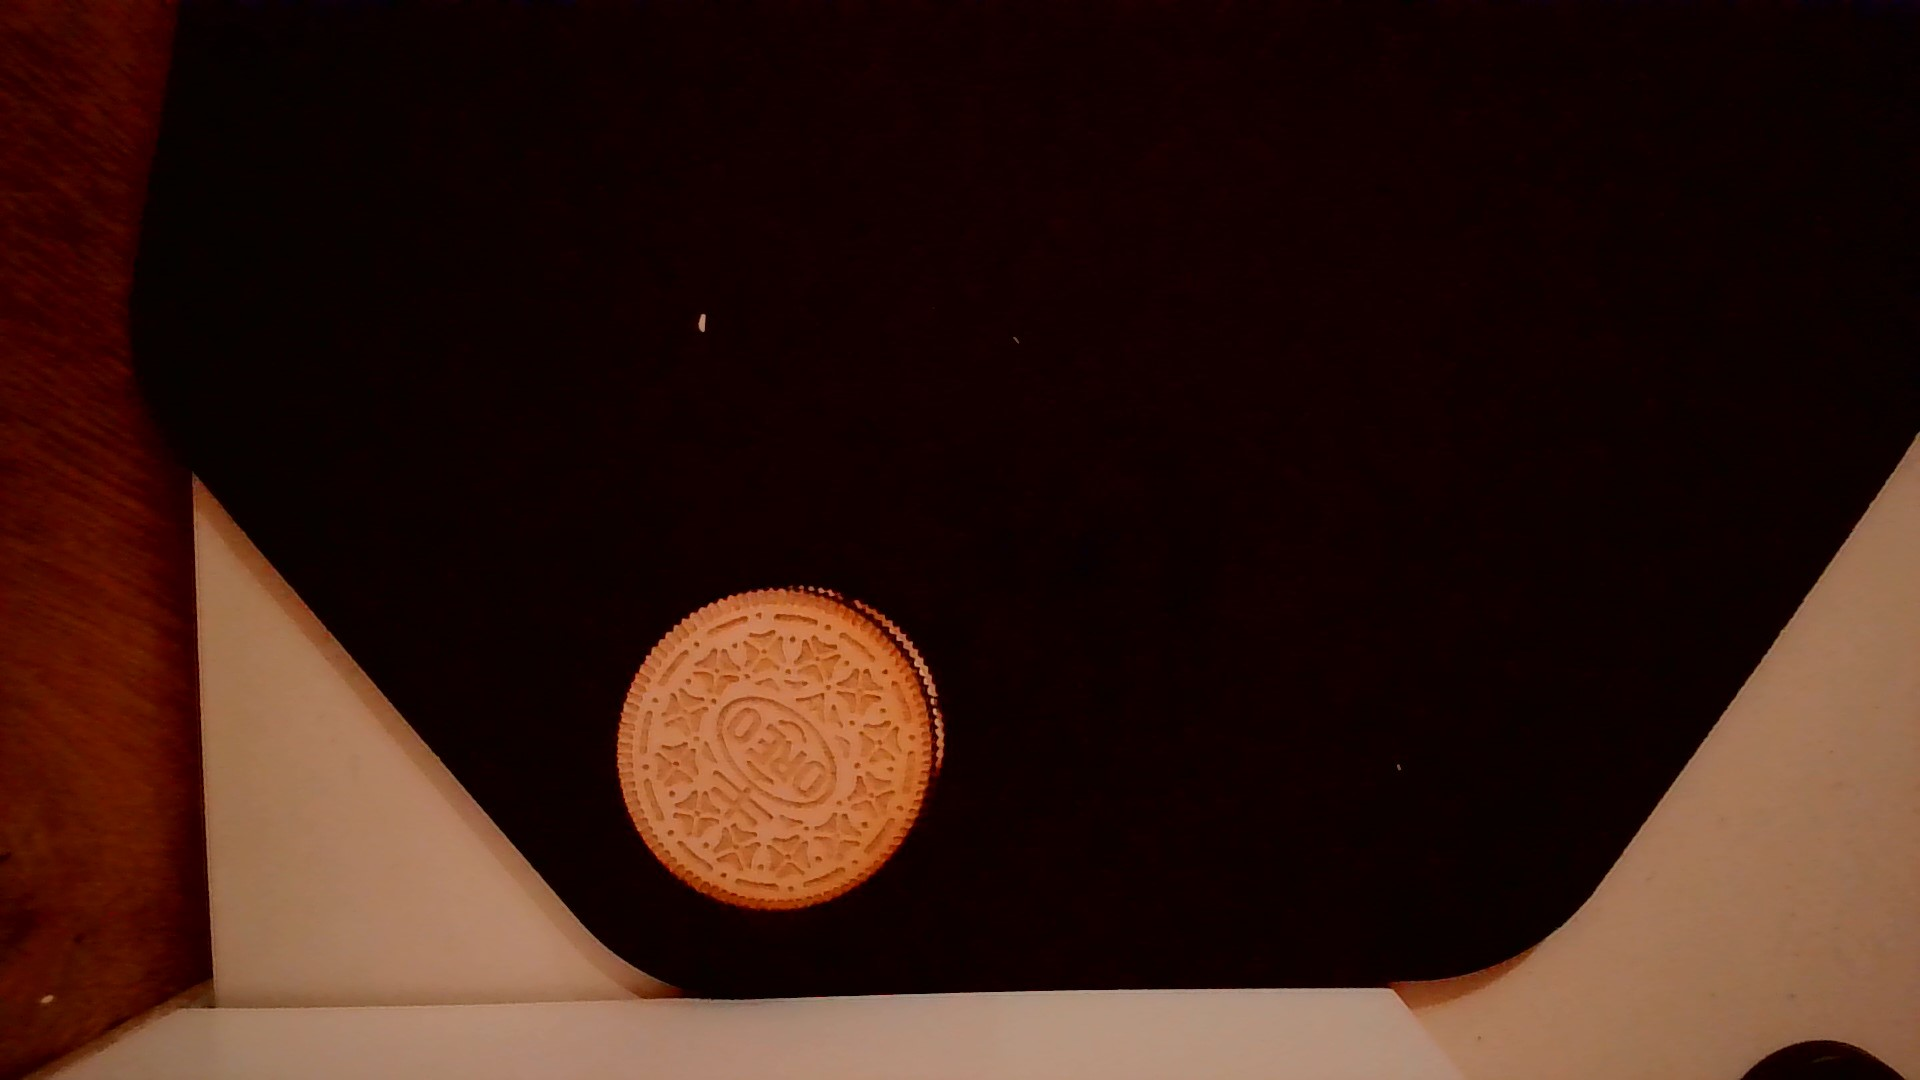Oréo: (608, 575, 956, 920)
